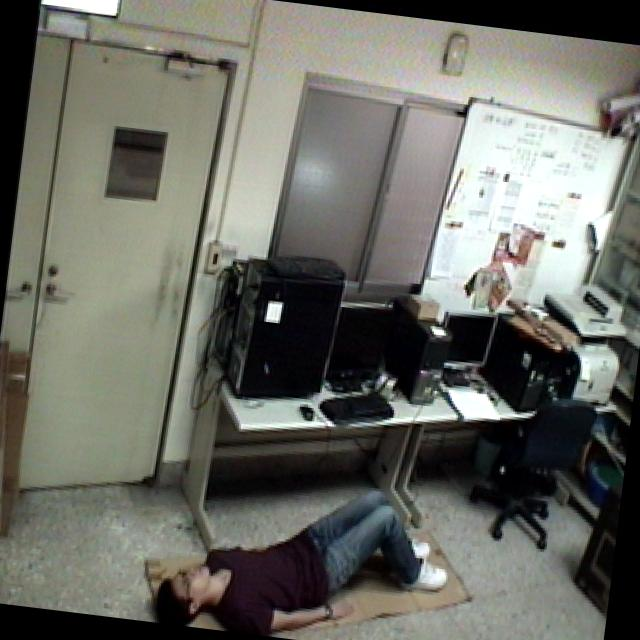lie: (150, 458, 463, 640)
